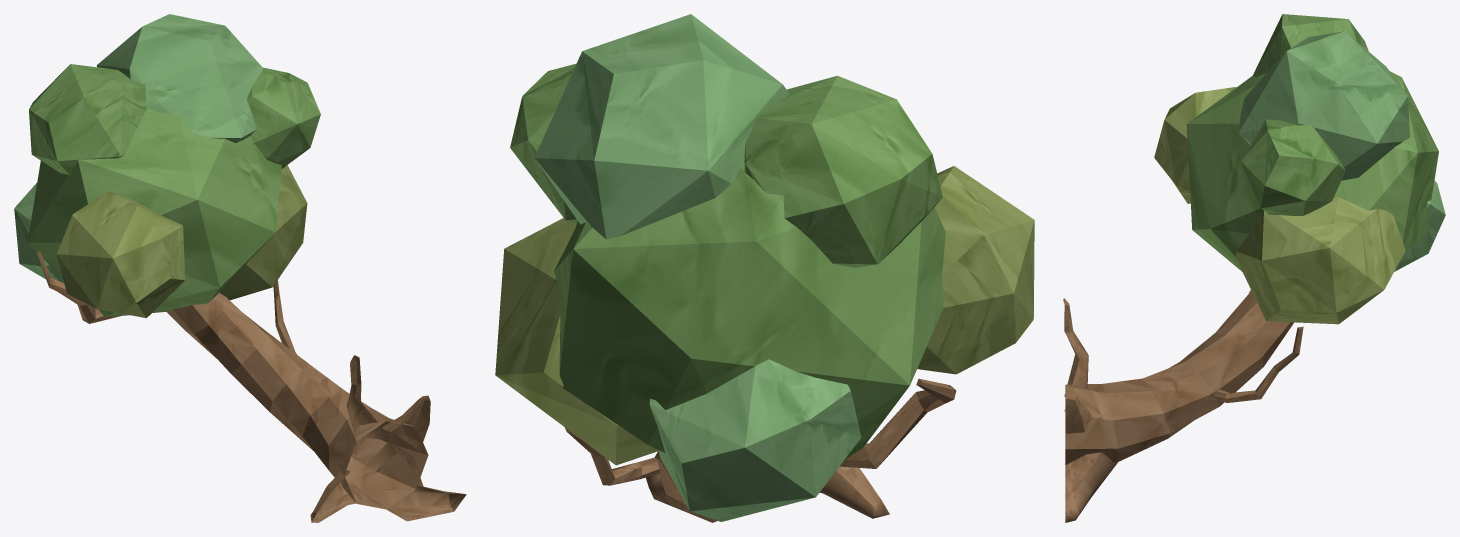
File: SkewedChunkyTreeFall 1.FBX
3 renders of one model, left to right at view 1: azimuth 30°, elevation 25°; view 2: azimuth 150°, elevation 25°; view 3: azimuth 270°, elevation 25°, orthographic. The views are drawn at different scales.
Parts seen in each view (by area): view 1: Cylinder002; view 2: Cylinder002; view 3: Cylinder002.
Boxes of the visible parts, x1,y1,x2,y2 form: Cylinder002: (14,14,466,522); Cylinder002: (495,14,1034,522); Cylinder002: (1063,14,1445,522).
Bounding box in the file's own units: 286 × 358 × 302.
Materials: 4 (4 with a texture image).
